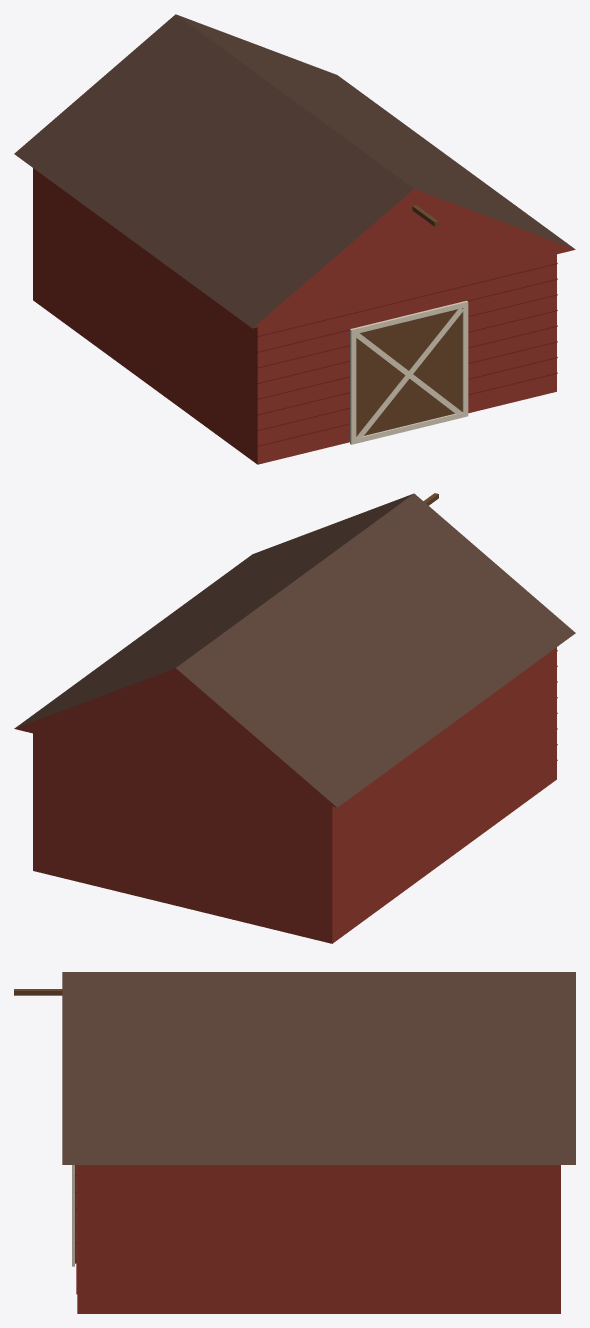
Rendered from SM_Barn.fbx.
3 renders of one model, top to bottom at view 1: azimuth 30°, elevation 25°; view 2: azimuth 150°, elevation 25°; view 3: azimuth 270°, elevation 25°, orthographic. The views are drawn at different scales.
Visible parts, largest first — view 1: Barn; view 2: Barn; view 3: Barn.
Boxes of the visible parts, left/top/right/bottom form: Barn: left=14, top=14, right=575, bottom=464; Barn: left=14, top=493, right=575, bottom=943; Barn: left=14, top=972, right=575, bottom=1313.
Bounding box in the file's own units: 1080 × 1510 × 782.
